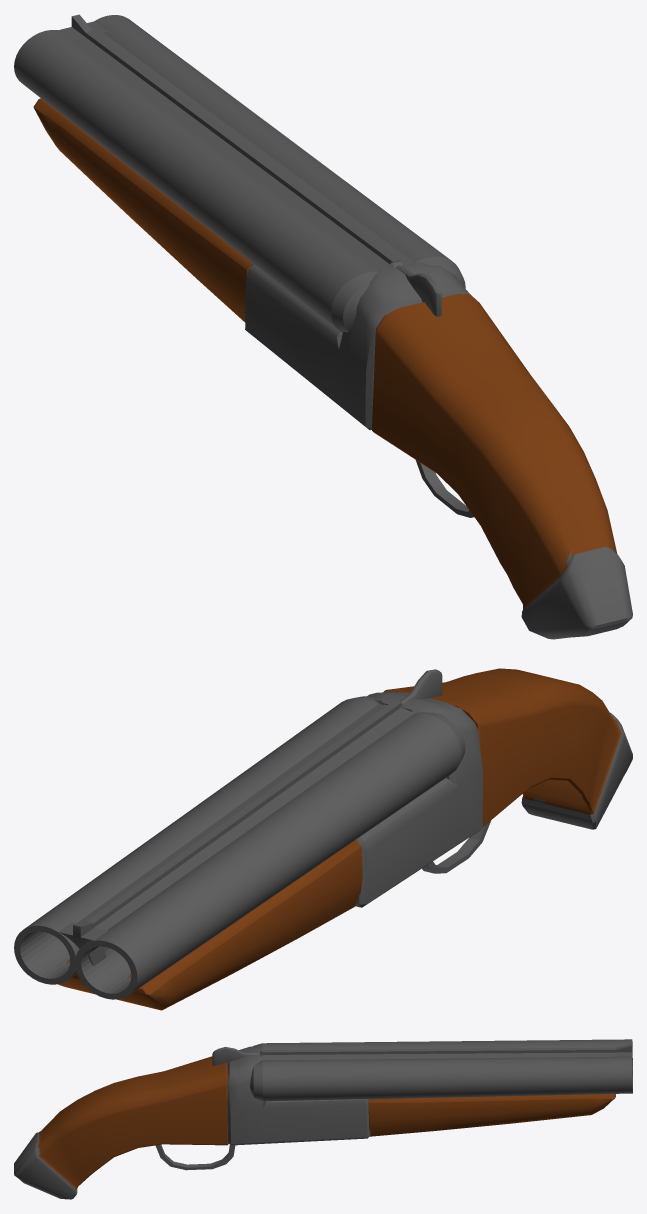
The model's file is supershotgun.fbx.
3 renders of one model, top to bottom at view 1: azimuth 30°, elevation 25°; view 2: azimuth 150°, elevation 25°; view 3: azimuth 270°, elevation 25°, orthographic. The views are drawn at different scales.
Parts seen in each view (by area): view 1: Cube.002, Cylinder.001, Cube, Cube.001, Cube.004, Cylinder, Cylinder.002, Cube.003, Cube.006; view 2: Cylinder.001, Cube.002, Cylinder, Cube.001, Cube, Cube.004, Cube.005, Cube.006, Cube.003; view 3: Cube.002, Cylinder, Cube, Cube.001, Cube.004, Cylinder.001, Cube.006, Cube.003, Cylinder.003.
Part boxes in pixels (x1=…): Cube.002: x1=372, y1=293, x2=632, y2=639; Cylinder.001: x1=14, y1=30, x2=377, y2=330; Cube: x1=245, y1=260, x2=469, y2=430; Cube.001: x1=33, y1=98, x2=252, y2=322; Cube.004: x1=73, y1=30, x2=413, y2=272; Cylinder: x1=94, y1=15, x2=450, y2=262; Cylinder.002: x1=331, y1=271, x2=378, y2=332; Cube.003: x1=396, y1=265, x2=441, y2=316; Cube.006: x1=415, y1=460, x2=473, y2=517; Cylinder.001: x1=75, y1=713, x2=461, y2=999; Cube.002: x1=384, y1=668, x2=632, y2=829; Cylinder: x1=14, y1=698, x2=377, y2=984; Cube.001: x1=58, y1=840, x2=362, y2=1010; Cube: x1=355, y1=691, x2=482, y2=907; Cube.004: x1=77, y1=700, x2=415, y2=930; Cube.005: x1=58, y1=921, x2=107, y2=966; Cube.006: x1=422, y1=820, x2=490, y2=873; Cube.003: x1=399, y1=669, x2=442, y2=707; Cube.002: x1=14, y1=1056, x2=228, y2=1199; Cylinder: x1=262, y1=1056, x2=632, y2=1101; Cube: x1=227, y1=1046, x2=370, y2=1145; Cube.001: x1=368, y1=1094, x2=615, y2=1136; Cube.004: x1=262, y1=1047, x2=619, y2=1060; Cylinder.001: x1=262, y1=1039, x2=632, y2=1074; Cube.006: x1=155, y1=1144, x2=235, y2=1170; Cube.003: x1=212, y1=1047, x2=260, y2=1065; Cylinder.003: x1=250, y1=1060, x2=263, y2=1101.
Bounding box in the file's own units: 225 × 420 × 1599.
